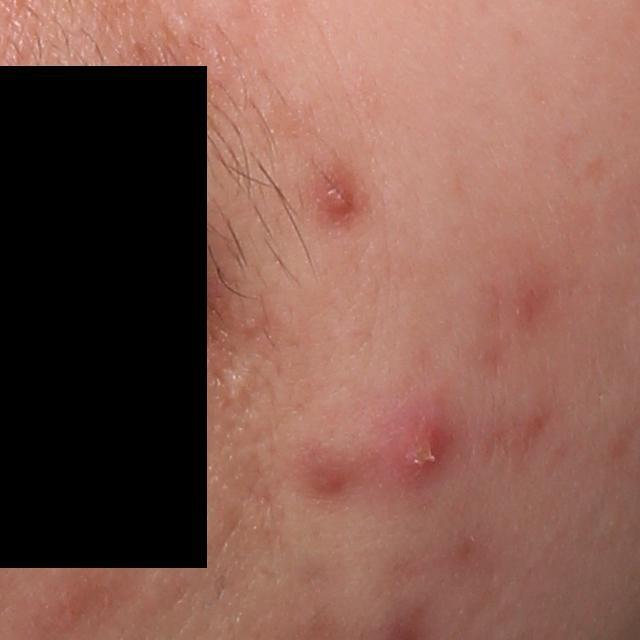papule: (390, 418, 449, 485), (318, 177, 358, 226)
